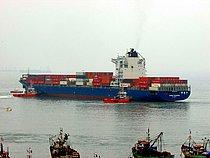Ship: (18, 47, 195, 106)
